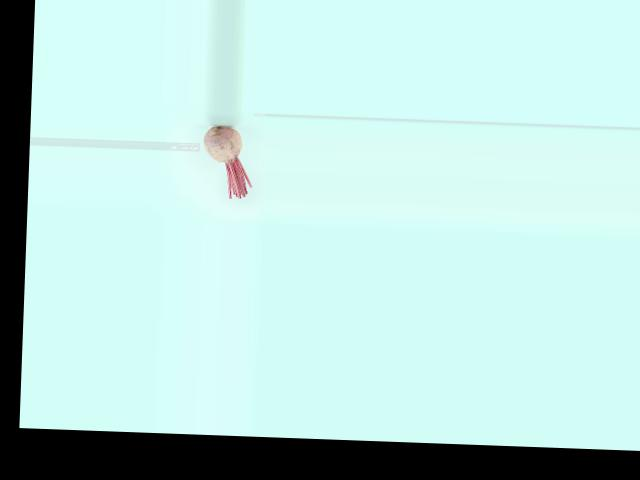beet: (200, 125, 253, 198)
